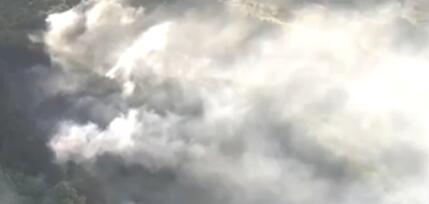yanwu: (31, 1, 429, 200)
